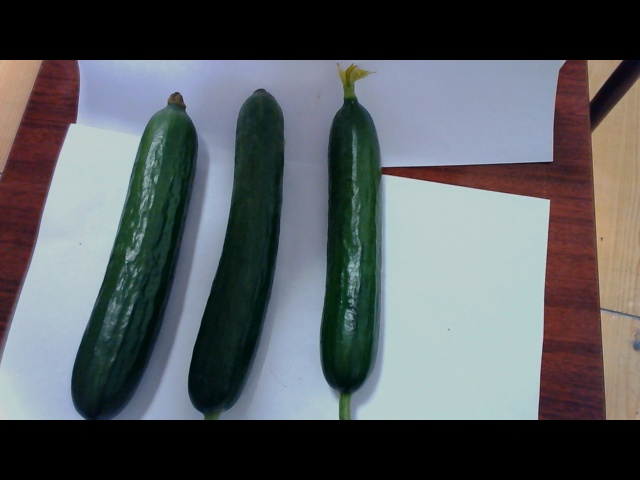cucumber: (62, 78, 195, 418), (184, 89, 285, 416), (312, 65, 391, 419)
